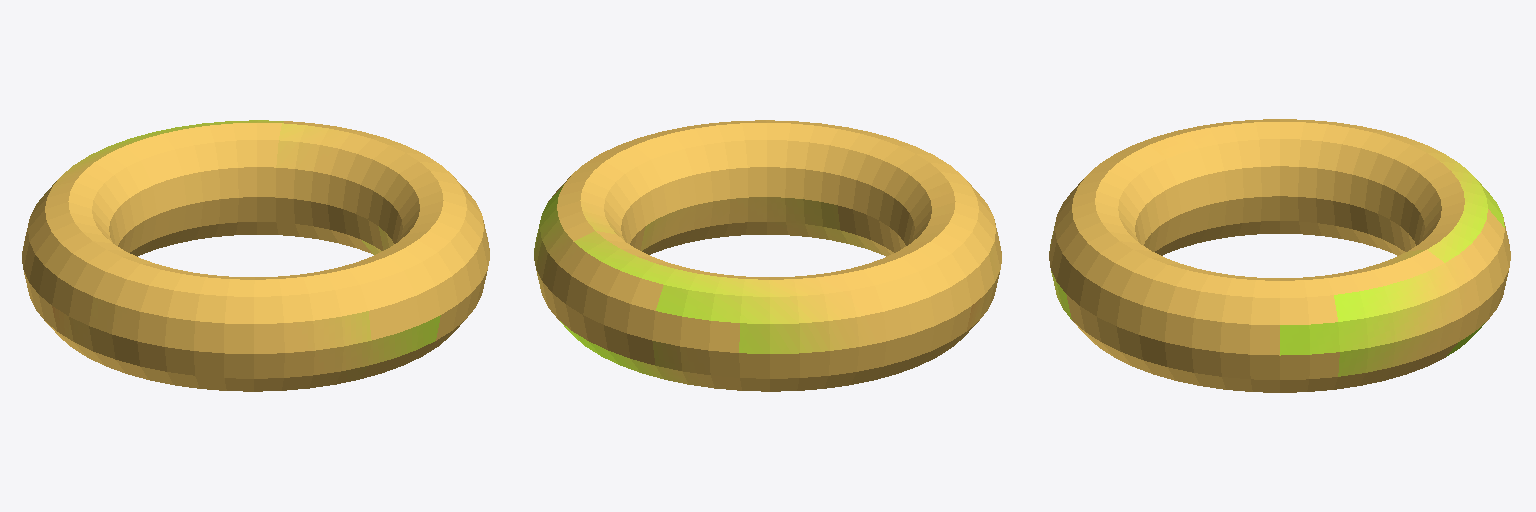
3 renders of one model, left to right at view 1: azimuth 30°, elevation 25°; view 2: azimuth 150°, elevation 25°; view 3: azimuth 270°, elevation 25°, orthographic.
Visible parts, largest first — view 1: トーラス; view 2: トーラス; view 3: トーラス.
Boxes of the visible parts, x1,y1,x2,y2 form: トーラス: [22, 120, 489, 391]; トーラス: [534, 120, 1001, 391]; トーラス: [1049, 119, 1510, 392].
Bounding box in the file's own units: 1.95 × 0.5 × 1.92.
1 materials, 1 textured.